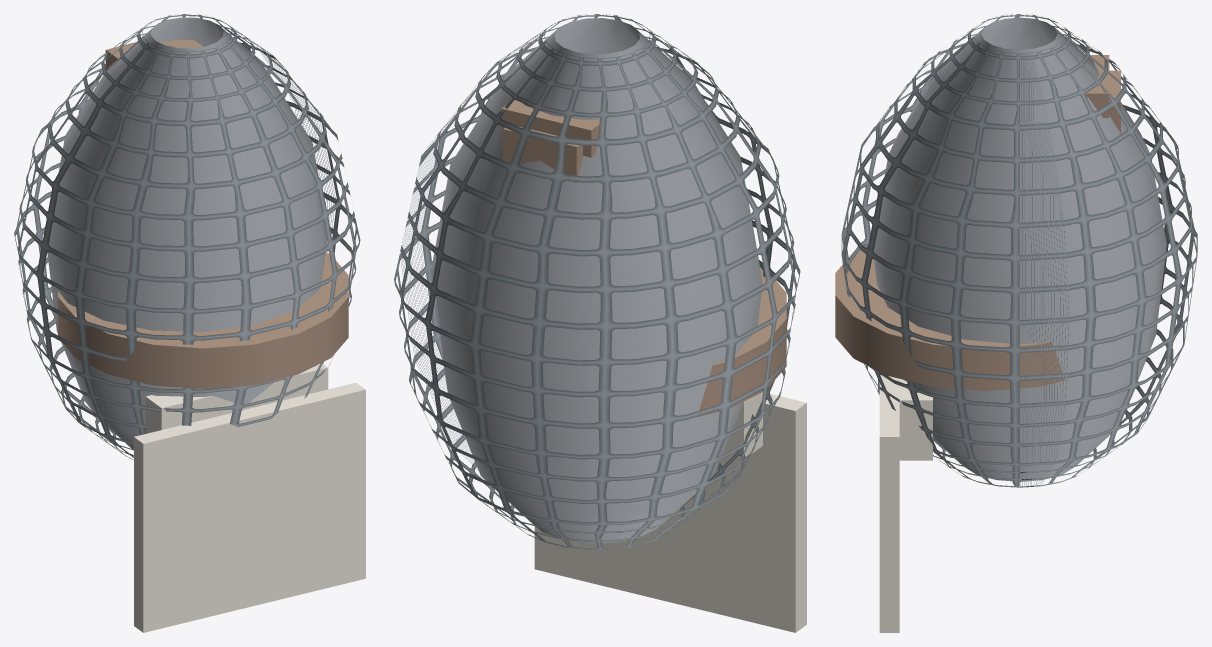
The model's file is mask.glb.
3 renders of one model, left to right at view 1: azimuth 30°, elevation 25°; view 2: azimuth 150°, elevation 25°; view 3: azimuth 270°, elevation 25°, orthographic. The views are drawn at different scales.
Visible parts, largest first — view 1: mask_inner, mask_bib, mask_shell, mask_pad, mask_tongue; view 2: mask_inner, mask_shell, mask_bib, mask_pad, mask_tongue; view 3: mask_inner, mask_shell, mask_pad, mask_bib, mask_tongue.
Boxes of the visible parts, x1,y1,x2,y2 form: mask_inner: (47,17,326,449); mask_bib: (134,364,365,632); mask_shell: (14,14,360,459); mask_pad: (58,252,348,389); mask_tongue: (105,40,202,69); mask_inner: (432,18,762,543); mask_shell: (394,14,800,549); mask_bib: (534,392,806,632); mask_pad: (697,267,786,416); mask_tongue: (501,100,599,182); mask_inner: (873,17,1166,481); mask_shell: (841,14,1197,487); mask_pad: (835,246,1065,390); mask_bib: (879,375,932,632); mask_tongue: (1085,55,1120,133).
Size of the model in its own units: 0.216 by 0.36 by 0.2175.
Materials: 4 (1 with a texture image).
